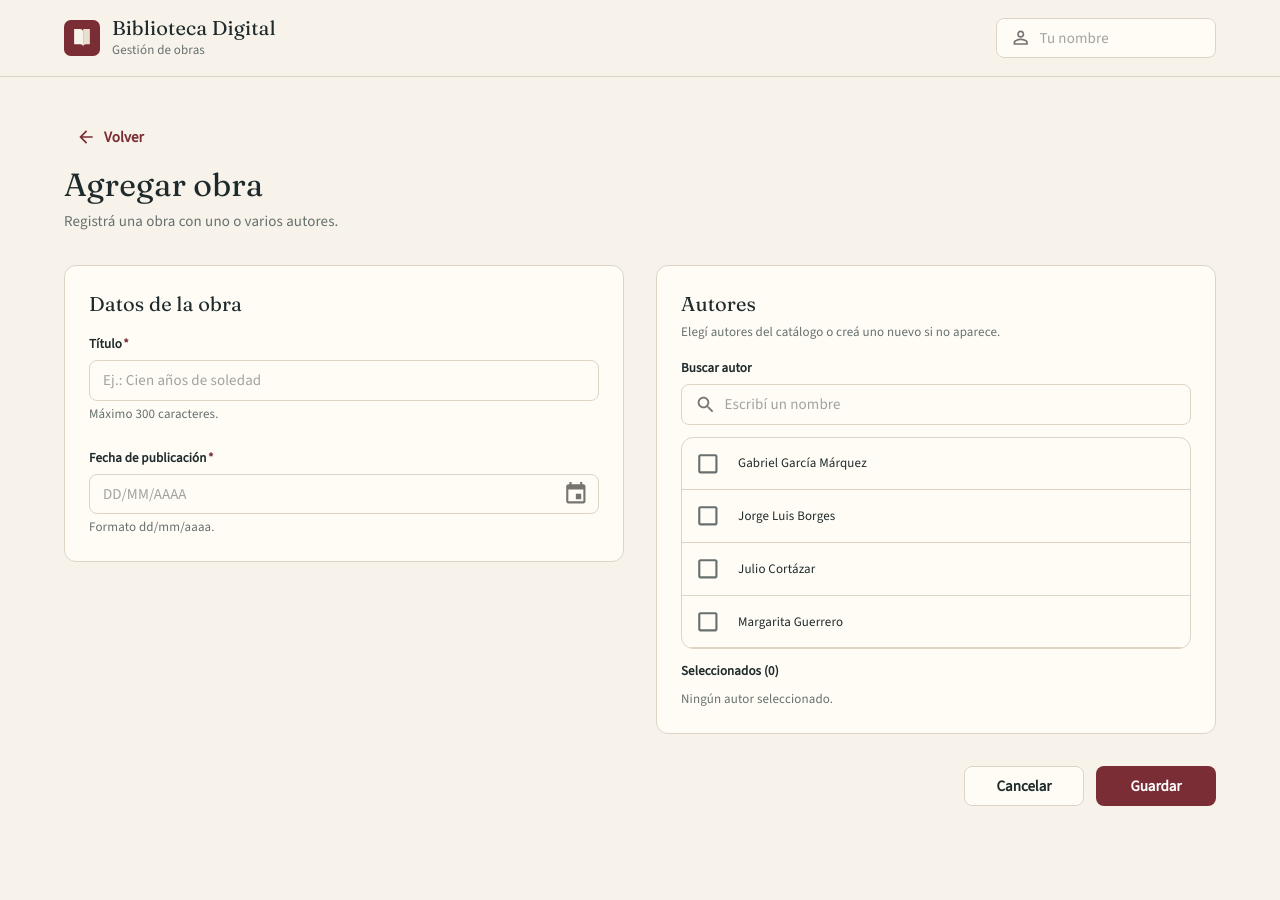
Test: Agregar obra › muestra en el campo el error que devuelve la API
Expected: the list named "Autores encontrados" is shown, left=682, top=438, right=1190, bottom=648
Type "Error de servidor" into the field labelled "Título *" at (344, 380), box left=89, top=360, right=599, bottom=401
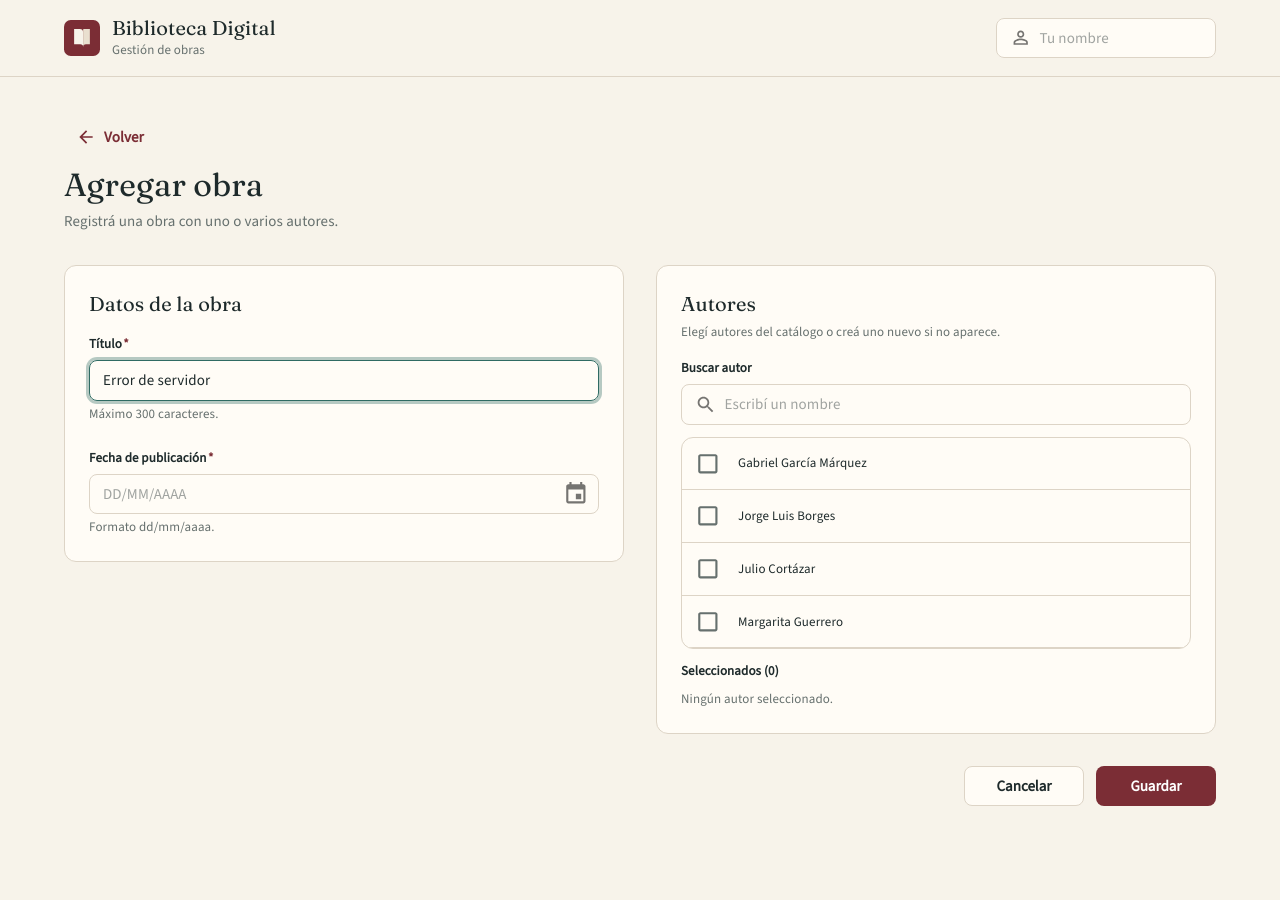
Type "01012000" into the field labelled "Fecha de publicación *" at (318, 494), box left=89, top=474, right=547, bottom=514
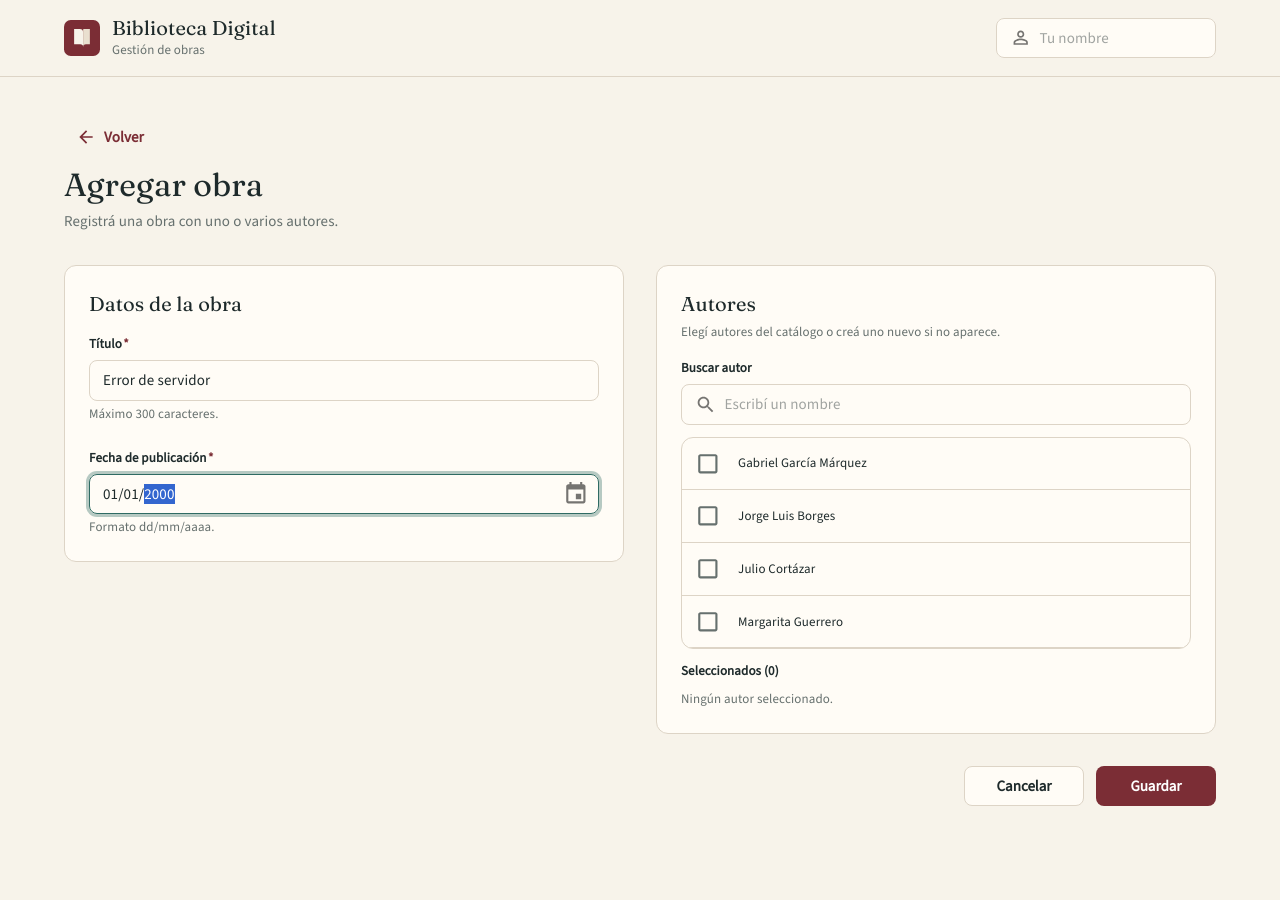
Click the checkbox labelled "Julio Cortázar" at (708, 569), box left=695, top=556, right=721, bottom=582
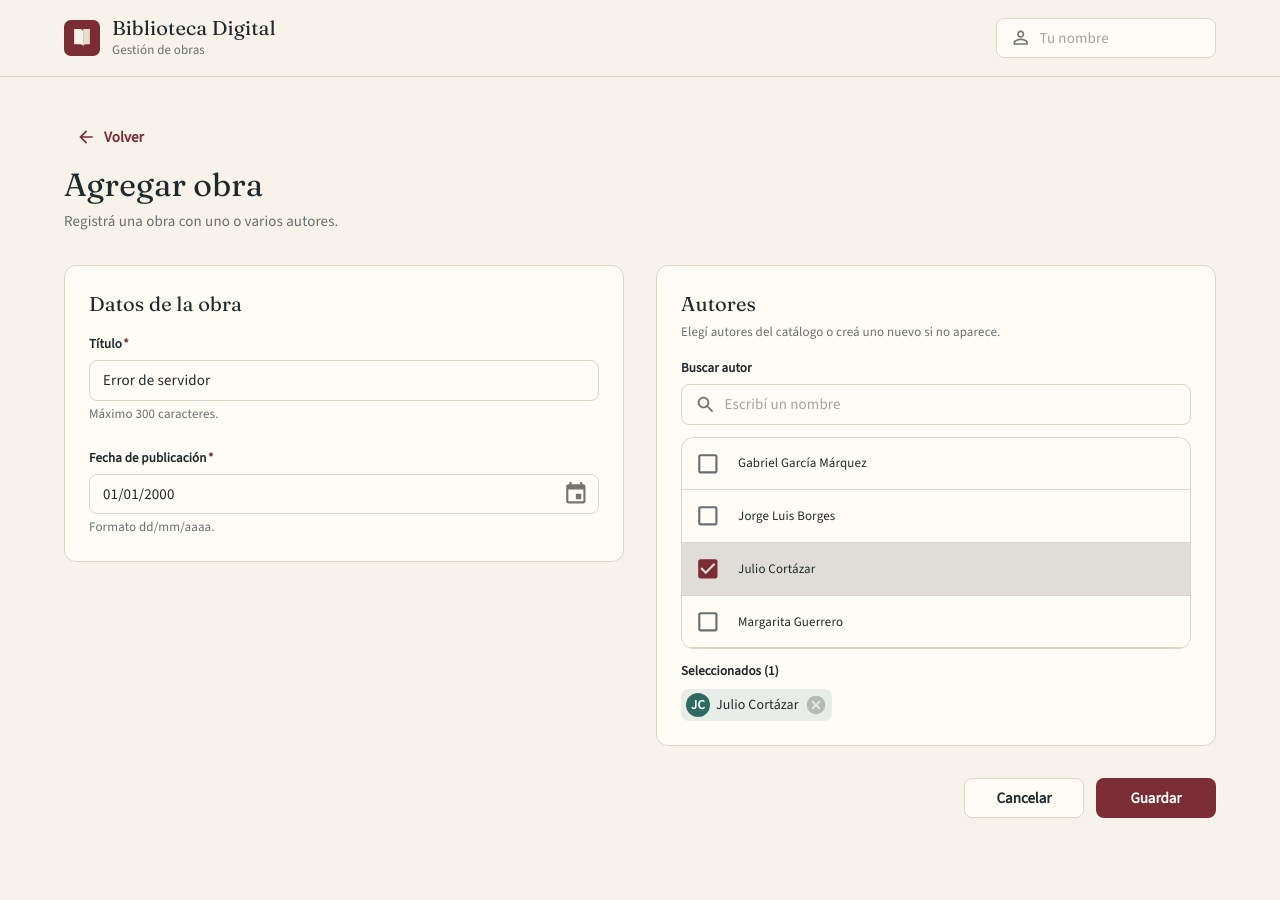
Click the button "Guardar" at (1156, 798), box left=1096, top=778, right=1216, bottom=818
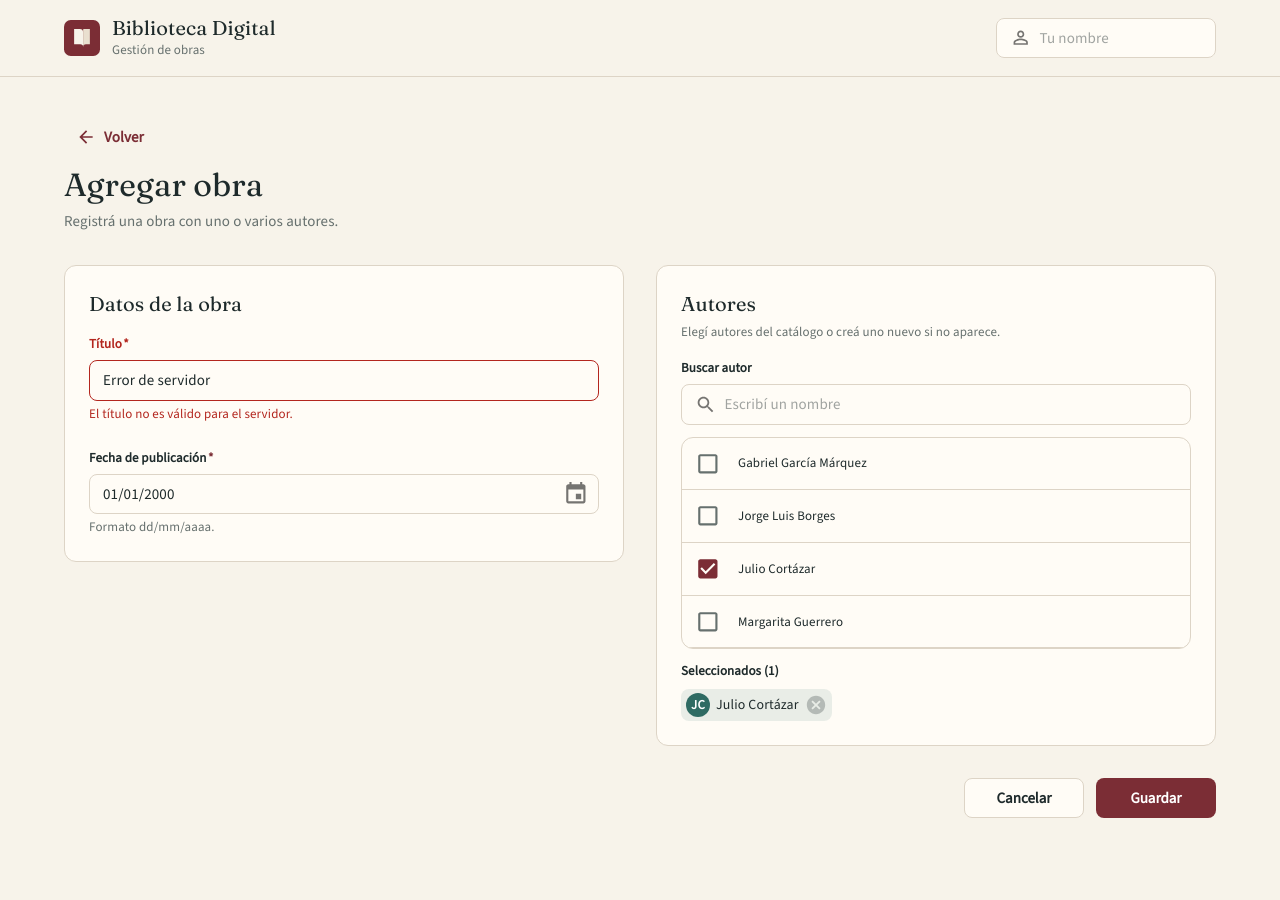
Result: the text "El título no es válido para el servidor." is shown at left=89, top=405, right=293, bottom=422
